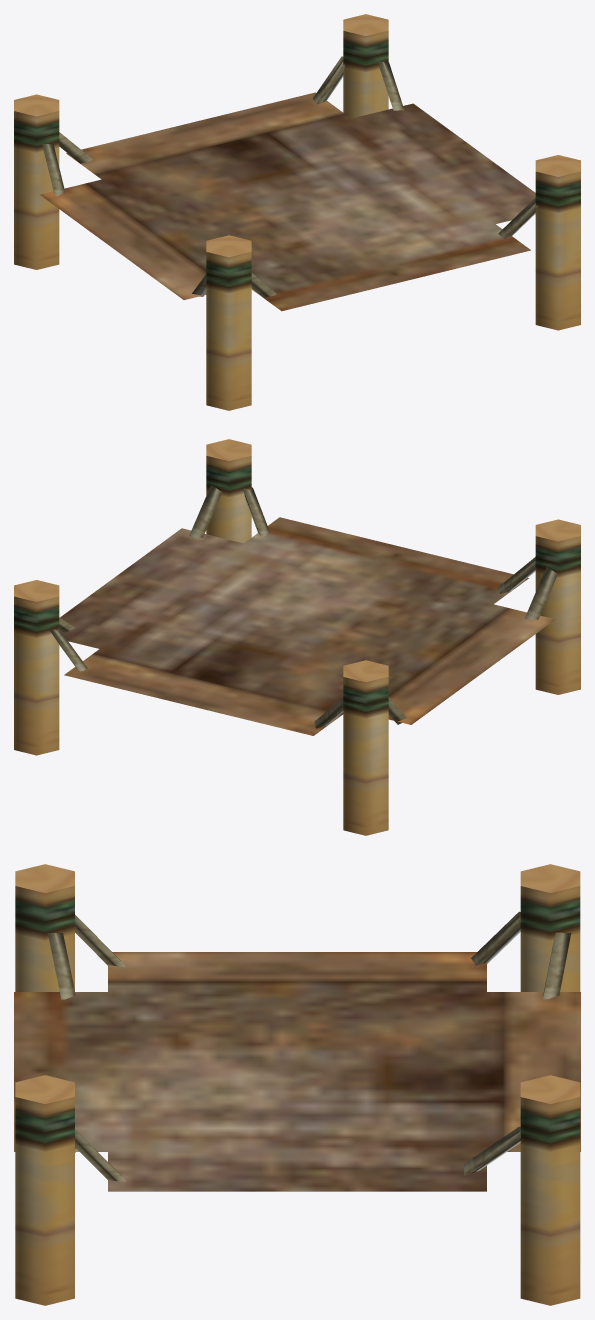
File: jun_tile_crossroads.obj
3 views of the same model, one above another, from view 1: azimuth 30°, elevation 25°; view 2: azimuth 150°, elevation 25°; view 3: azimuth 270°, elevation 25° (orthographic). The views are drawn at different scales.
Parts seen in each view (by area): view 1: mid03; view 2: mid03; view 3: mid03.
Boxes of the visible parts, x1=… form: mid03: x1=14, y1=14, x2=580, y2=410; mid03: x1=14, y1=439, x2=580, y2=835; mid03: x1=14, y1=864, x2=580, y2=1305.
Size of the model in its own units: 1 by 0.3923 by 1.
1 material, 1 textured.
